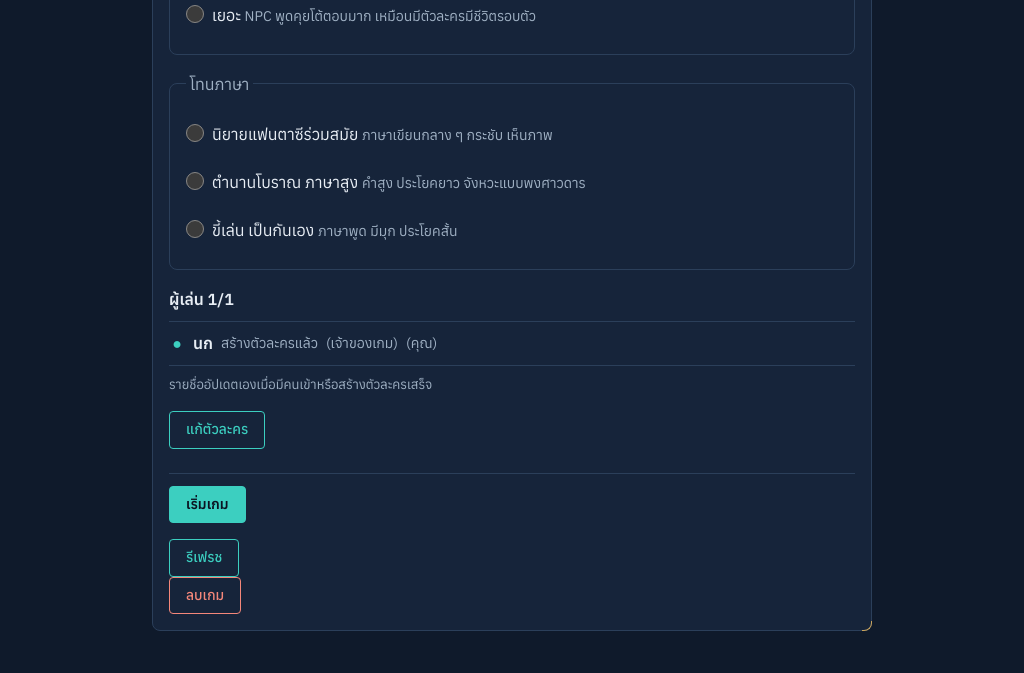
Test: Character loot step (GEN-048) › Q-081: before the start a kept set can be changed: reroll, then a new choice replaces it
This screenshot has width=1024, height=673.
(page scrolled)
Click the button "แก้ตัวละคร". click: (217, 430)
box: [169,411,265,449]
(page scrolled)
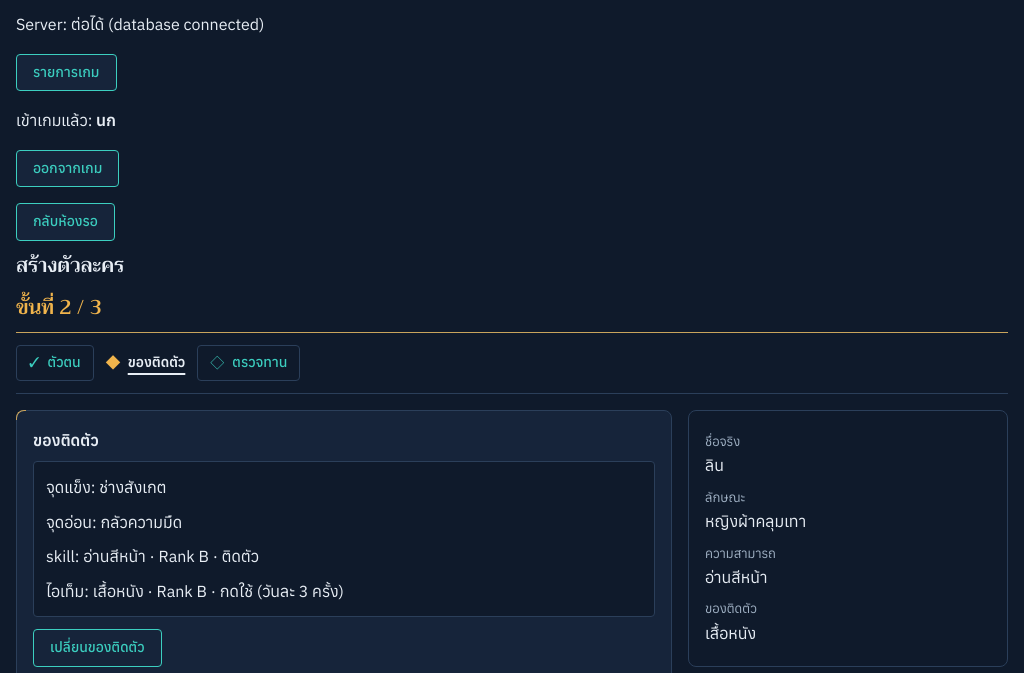
Expected: the list named "ของติดตัวที่เลือก" shows "อ่านสีหน้า", [83,546,259,566]
Click the button "เปลี่ยนของติดตัว". click: (97, 648)
box: [33,629,162,666]
(page scrolled)
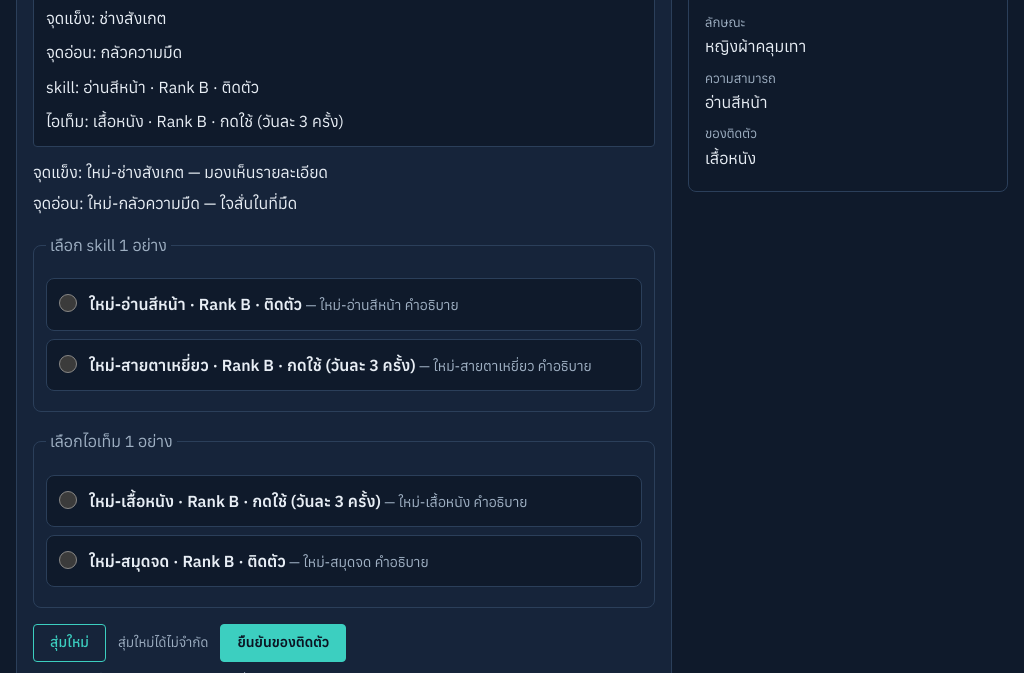
Click the radio button labelled "ใหม่-อ่านสีหน้า · Rank B · ติดตัว — ใหม่-อ่านสีหน้า คำอธิบาย". click: (68, 304)
box: [59,294,77,312]
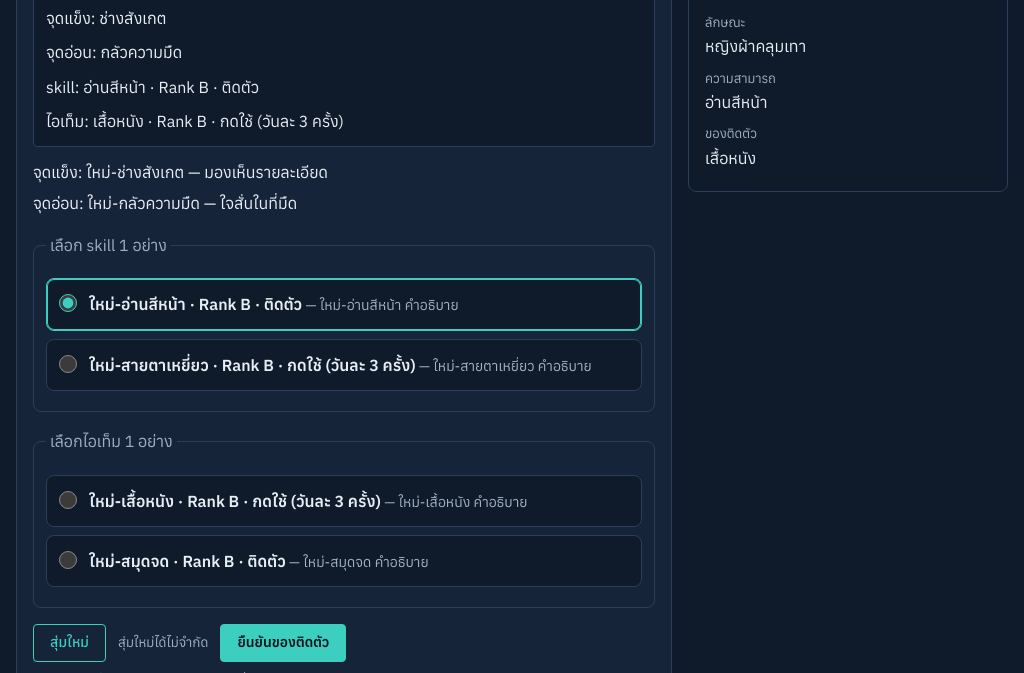
Expected: the list named "ของติดตัวที่เลือก" shows "เสื้อหนัง", [93,111,344,131]
Click the radio button labelled "ใหม่-สมุดจด · Rank B · ติดตัว — ใหม่-สมุดจด คำอธิบาย". click: (68, 560)
box: [59,551,77,569]
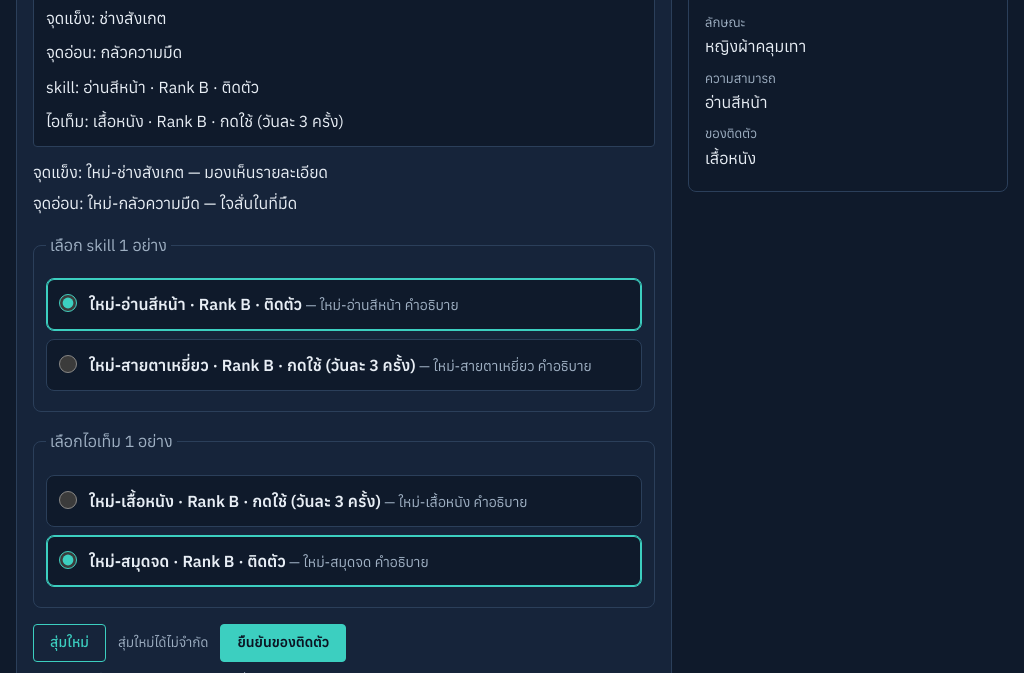
Click the button "ยืนยันของติดตัว". click: (283, 643)
box: [220,624,346,662]
(page scrolled)
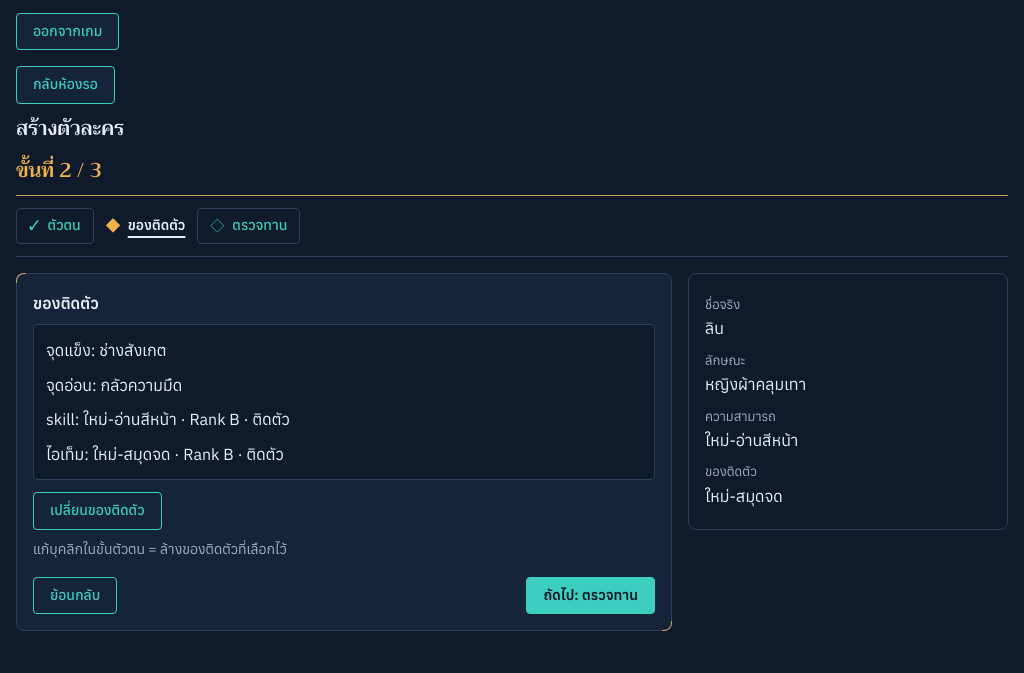
Expected: the list item "ไอเท็ม: ใหม่-สมุดจด · Rank B · ติดตัว" is shown, [46,444,284,464]
Expected: the radio button is gone
